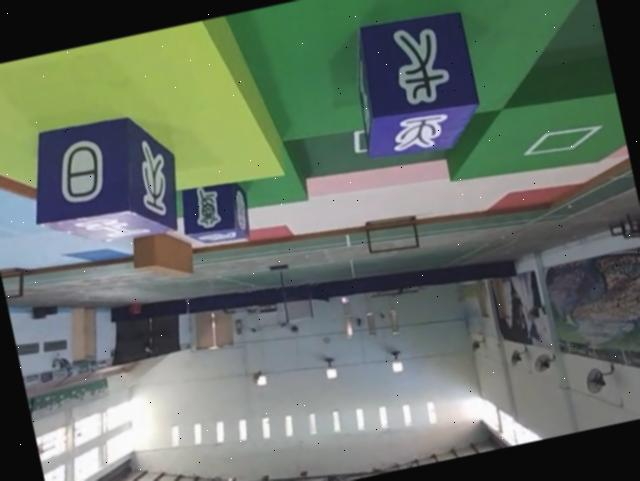R2 Fake Blue: (19, 104, 191, 257), (337, 2, 487, 165), (172, 176, 253, 252)
